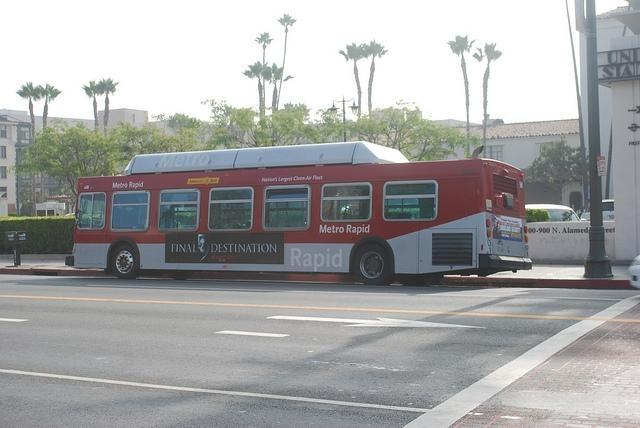bus: (70, 144, 533, 282)
car: (525, 204, 580, 222), (580, 200, 614, 223)
